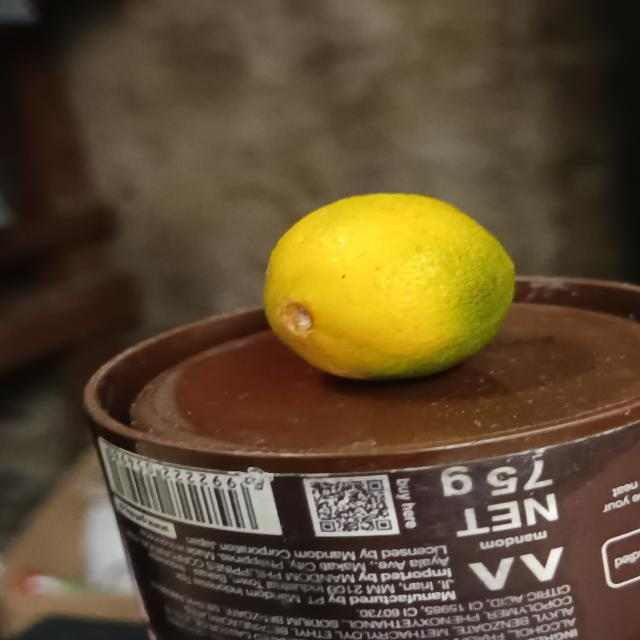greening: (264, 190, 530, 388)
